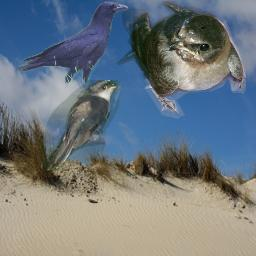Crow: (16, 1, 128, 92)
Cuckoo: (41, 80, 121, 173)
Swallow: (114, 1, 246, 120)
